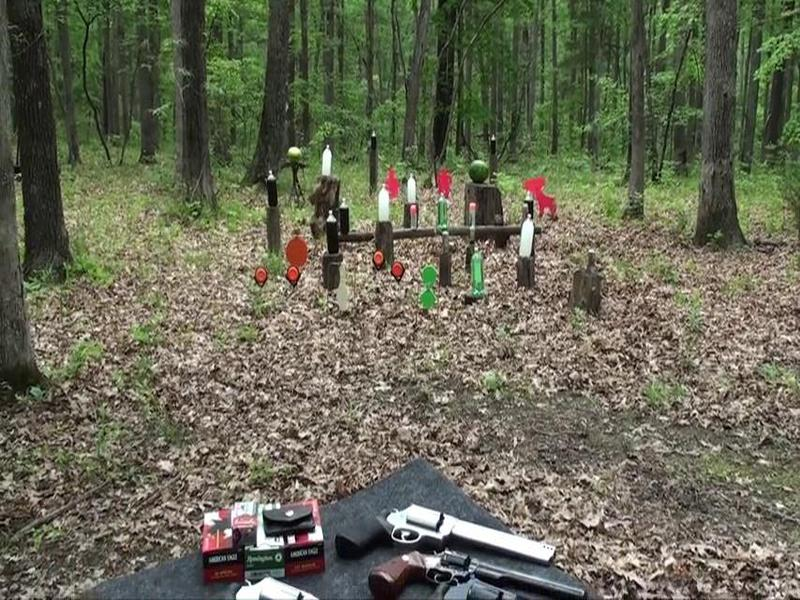Revolver: (316, 494, 579, 588)
